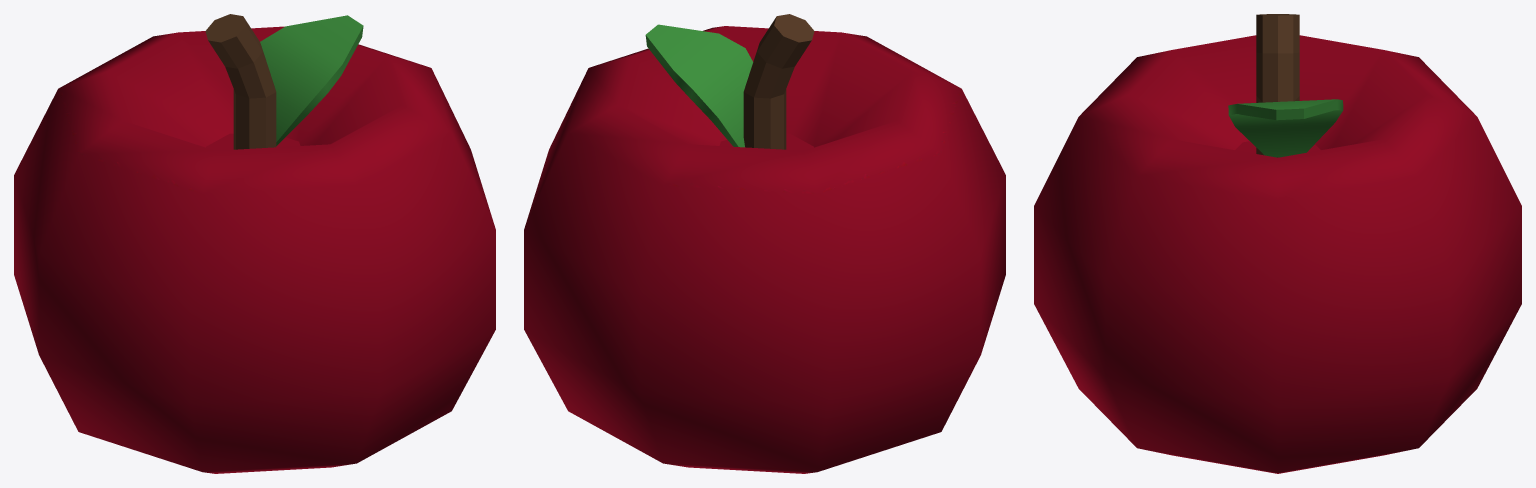
File: Apple Model.fbx
3 renders of one model, left to right at view 1: azimuth 30°, elevation 25°; view 2: azimuth 150°, elevation 25°; view 3: azimuth 270°, elevation 25°, orthographic. The views are drawn at different scales.
Parts seen in each view (by area): view 1: Apple; view 2: Apple; view 3: Apple.
Boxes of the visible parts, box(x1,y1,x2,y2) form: Apple: box(14, 14, 495, 473); Apple: box(524, 14, 1005, 473); Apple: box(1034, 14, 1521, 473).
Size of the model in its own units: 1.3 by 1.15 by 1.3.
Materials: 1 (1 with a texture image).
